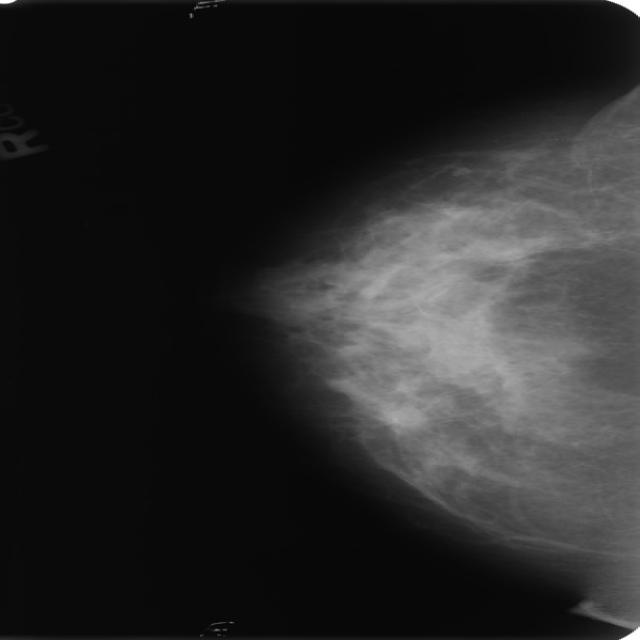tumour: (384, 405, 423, 427)
